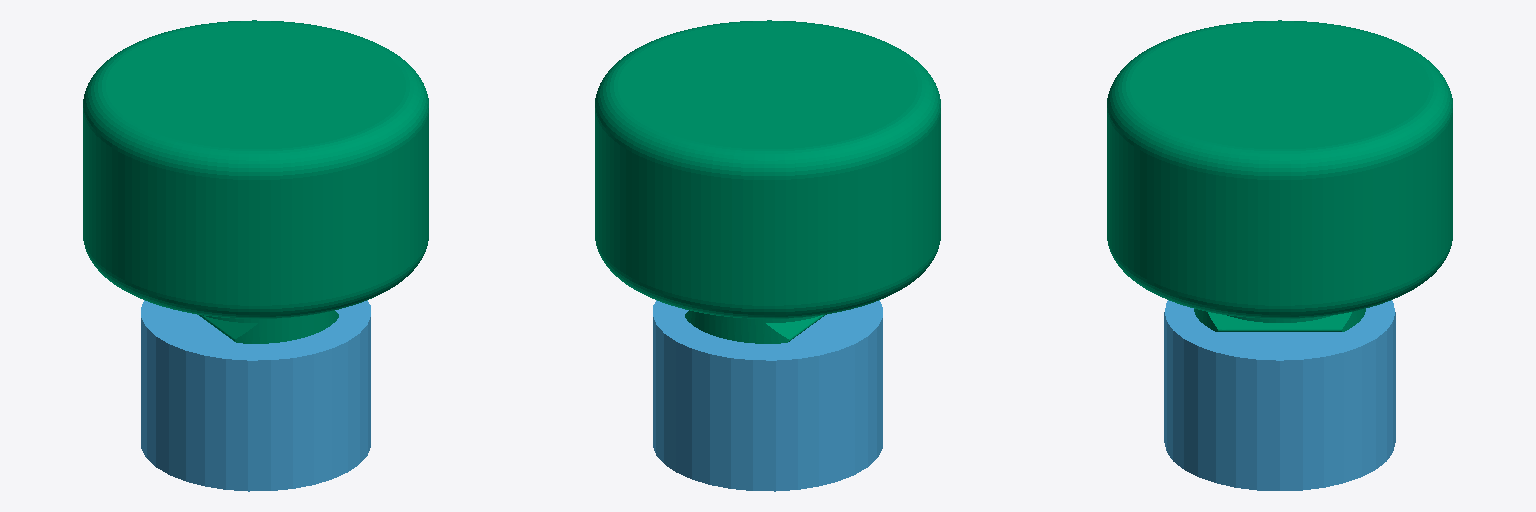
The robot description file, URDF, robot "round_valve":
<?xml version="1.0" ?>
<robot name="round_valve">
	<link name="world" />
	<link name="base">
		<inertial>
			<origin xyz="0 0 0" />
			<mass value="0.1" />
			<inertia ixx="1e-3" ixy="0.0" ixz="0.0" iyy="1e-3" iyz="0.0"
				izz="1e-3" />
		</inertial>
		<visual>
			<origin xyz="0 0 0.0125" />
			<geometry>
				<cylinder length="0.025" radius="0.02" />
			</geometry>
		</visual>
		<collision>
			<origin xyz="0 0 0.0125" />
			<geometry>
				<cylinder length="0.025" radius="0.02" />
			</geometry>
		</collision>
	</link>

	<link name="head">
		<inertial>
			<origin xyz="0 0 0" />
			<mass value="0.1" />
			<inertia ixx="1e-3" ixy="0.0" ixz="0.0" iyy="1e-3" iyz="0.0"
				izz="1e-3" />
		</inertial>
		<visual>
			<origin xyz="0 0 0" />
			<geometry>
				<mesh filename="meshes/valves/round_valve.stl" />
			</geometry>
		</visual>
		<collision>
			<origin xyz="0 0 0" />
			<geometry>
				<mesh filename="meshes/valves/round_valve.stl" />
			</geometry>
		</collision>
	</link>

	<joint name="fixed_palm" type="fixed">
		<origin rpy="0. 0. 0." xyz="0. 0. 0." />
		<parent link="world" />
		<child link="base" />
	</joint>

	<joint name="valve_joint" type="revolute">
		<origin rpy="0 0 0" xyz="0 0.0 0.025" />
		<parent link="base" />
		<child link="head" />
		<limit effort="100000" lower="-31" upper="31" velocity="1000" />
			<axis xyz="0 0 1" />
			<dynamics damping="160" friction="0.0" />
	</joint>

</robot>

--- Facts derived from the render (not from the file) ---
Views: 3 orthographic renders of the robot side by side, from view 1: azimuth 30°, elevation 25°; view 2: azimuth 150°, elevation 25°; view 3: azimuth 270°, elevation 25°.
Model round_valve with 3 links and 2 joints (1 revolute, 1 fixed), rooted at world, posed all joints at 0.
Links seen in each view (by area): view 1: head, base; view 2: head, base; view 3: head, base.
Link boxes in pixels (bbox=[...]): head: bbox=[83, 20, 428, 343]; base: bbox=[141, 300, 370, 491]; head: bbox=[595, 20, 940, 343]; base: bbox=[653, 300, 882, 491]; head: bbox=[1107, 20, 1452, 331]; base: bbox=[1164, 300, 1395, 490].
Bounding box of the posed robot: 0.06 × 0.06 × 0.0681 m (x, y, z).
Meshes: 1 distinct files referenced, 1 mesh visuals loaded (1 binary STL).
